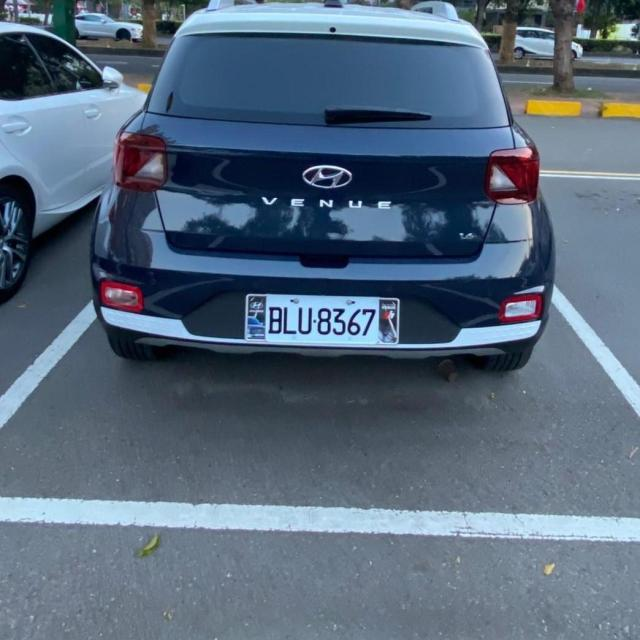W: (240, 285, 406, 349)
